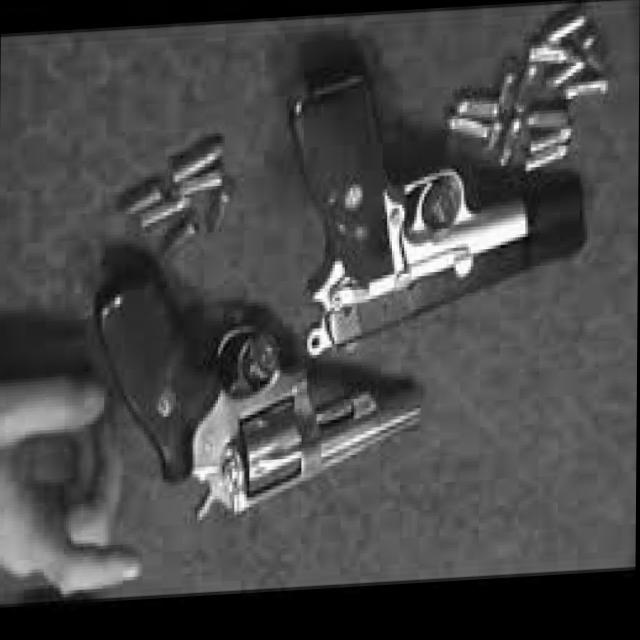handgun: (93, 257, 433, 537), (279, 78, 590, 373)
